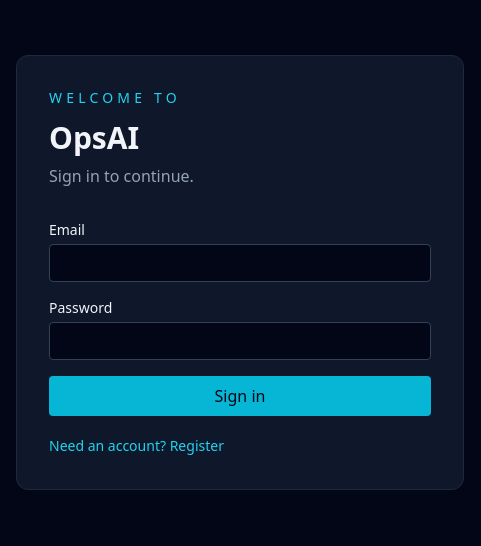
Scenario: HomePage › offers registration with a name field
Expected: the button "Sign in" is shown, [49,376,431,416]
Click the button "Need an account? Register". click: (136, 446)
box: [49,436,224,456]
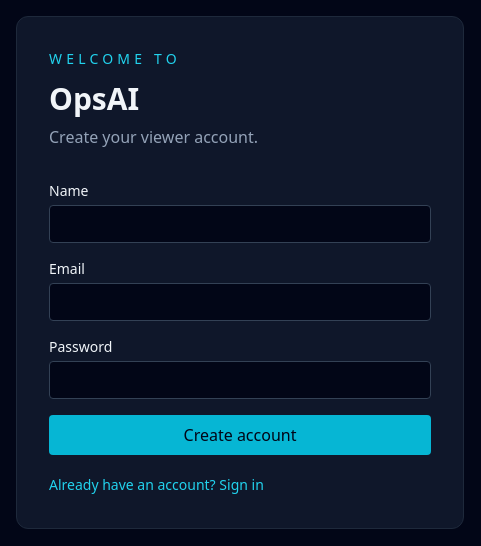
Expected: the field labelled "Name" is shown, [49,204,431,242]
